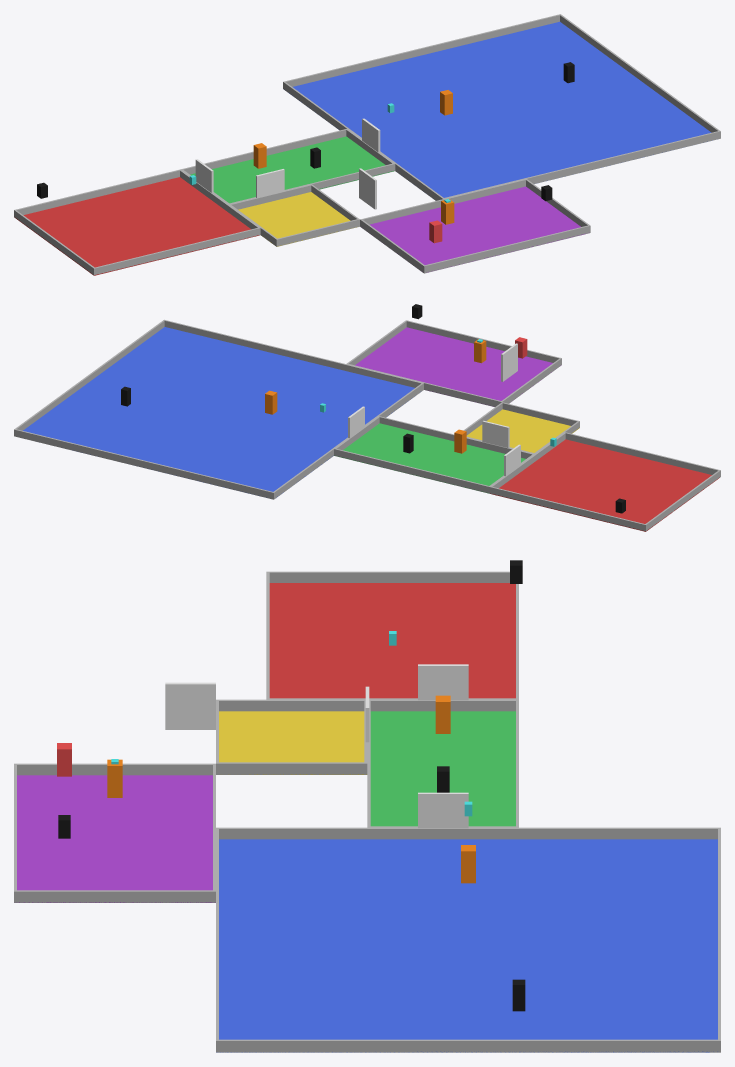
The model's file is outbreak_blockout.obj.
3 views of the same model, one above another, from view 1: azimuth 30°, elevation 25°; view 2: azimuth 150°, elevation 25°; view 3: azimuth 270°, elevation 25° (orthographic). The views are drawn at different scales.
Visible parts, largest first — view 1: light_3; view 2: light_3; view 3: light_3.
Boxes of the visible parts, x1,y1,x2,y2 form: light_3: (14,14,720,275); light_3: (14,304,720,531); light_3: (14,560,720,1052).
Bounding box in the file's own units: 44 × 4 × 28.
